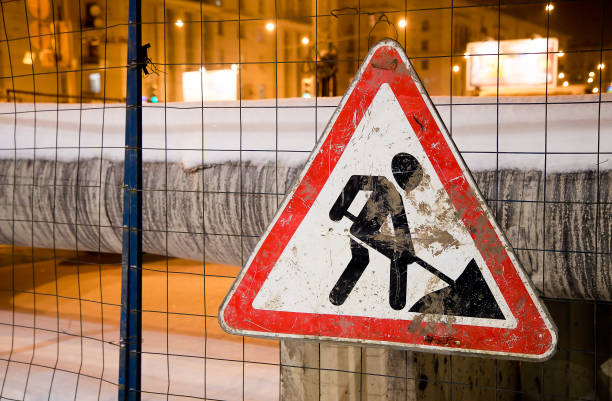yol_calismasi_levha: (218, 41, 556, 357)
